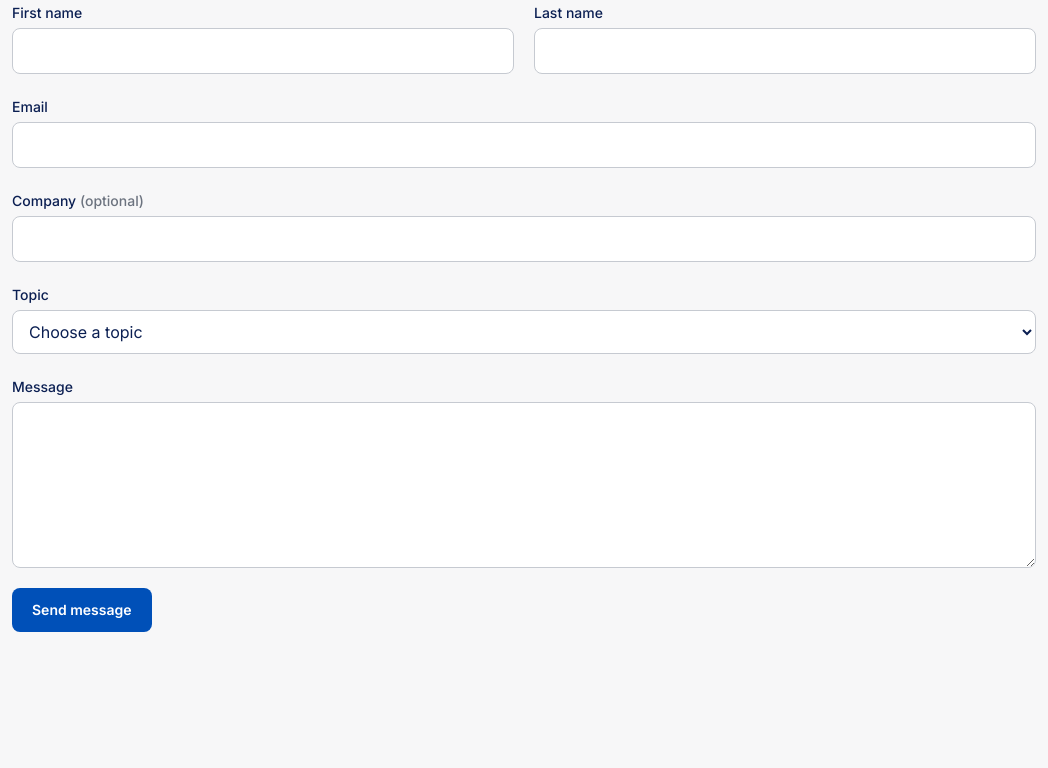
Test: ContactForm › shows the server's field error next to the field
Type "Ada" into the field labelled "First name".
click(263, 51); type("Ada")  # box [12,28,514,74]
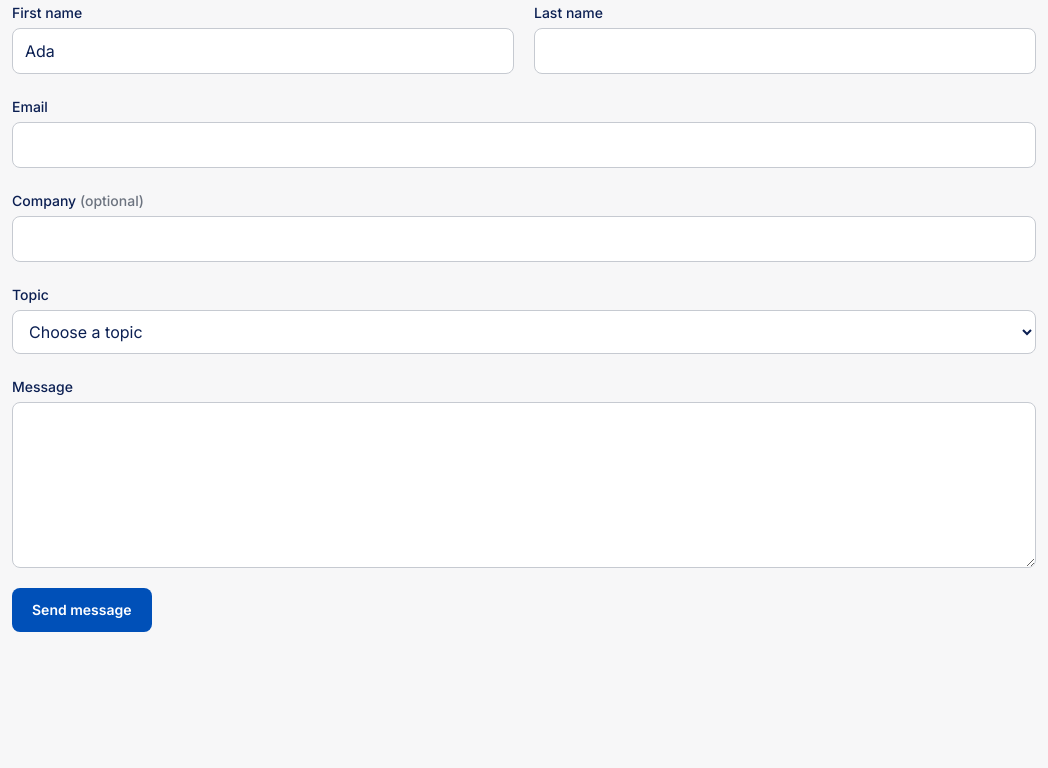
Type "Lovelace" into the field labelled "Last name".
click(785, 51); type("Lovelace")  # box [534,28,1036,74]
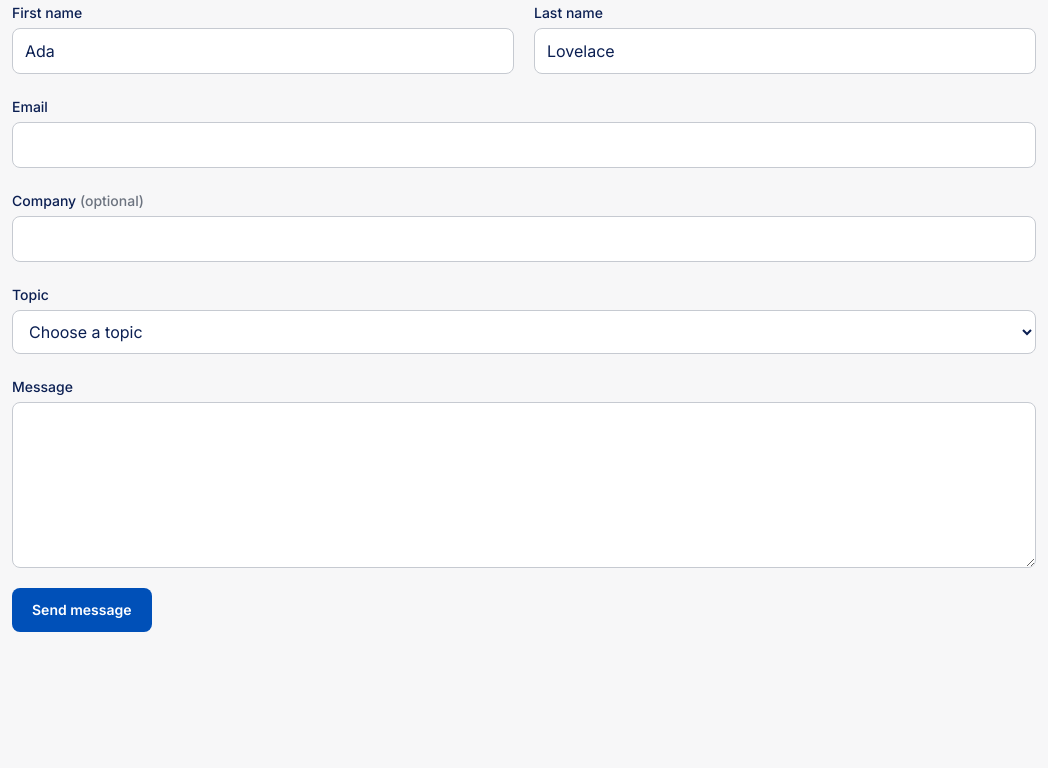
Type "ada@example.com" into the field labelled "Email".
click(524, 145); type("ada@example.com")  # box [12,122,1036,168]
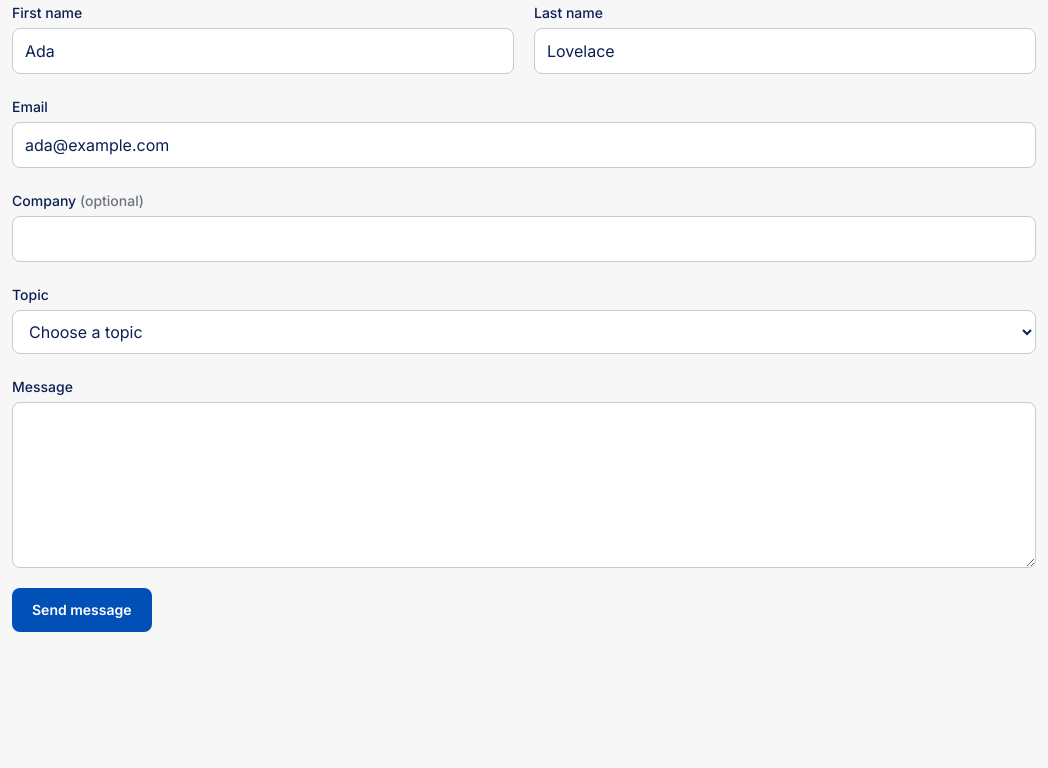
Select "Billing" in the dropdown labelled "Topic" at coordinates (524, 332), box [12,310,1036,354]
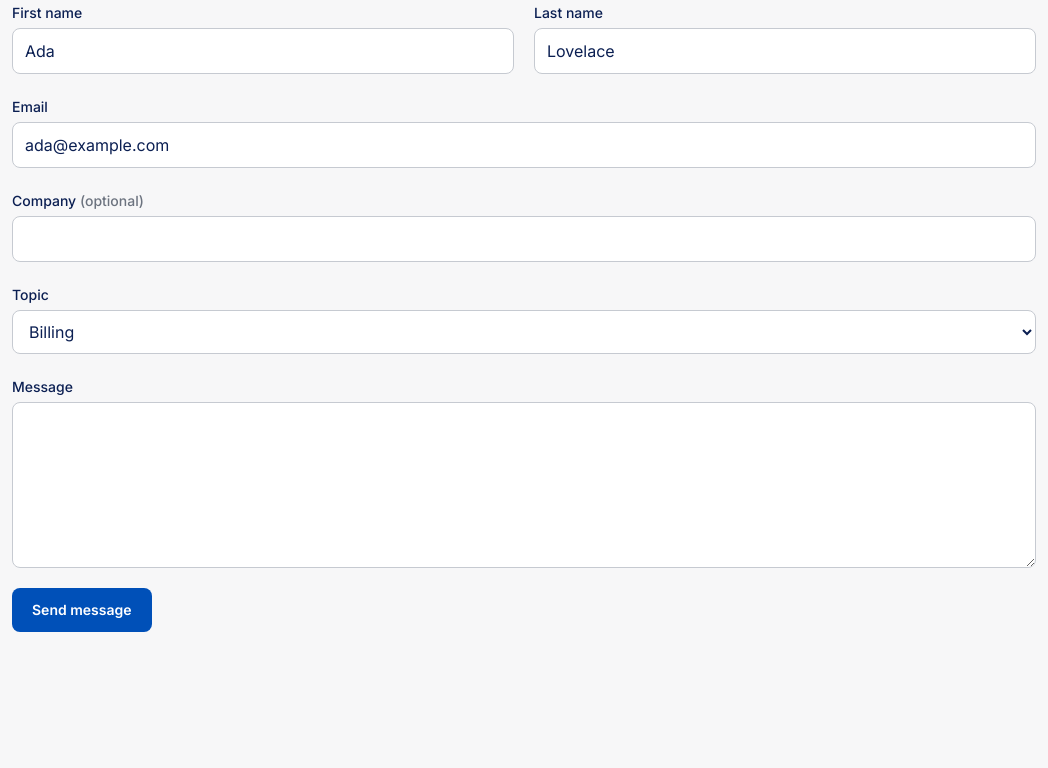
Type "Hello" into the text box labelled "Message".
click(524, 485); type("Hello")  # box [12,402,1036,568]
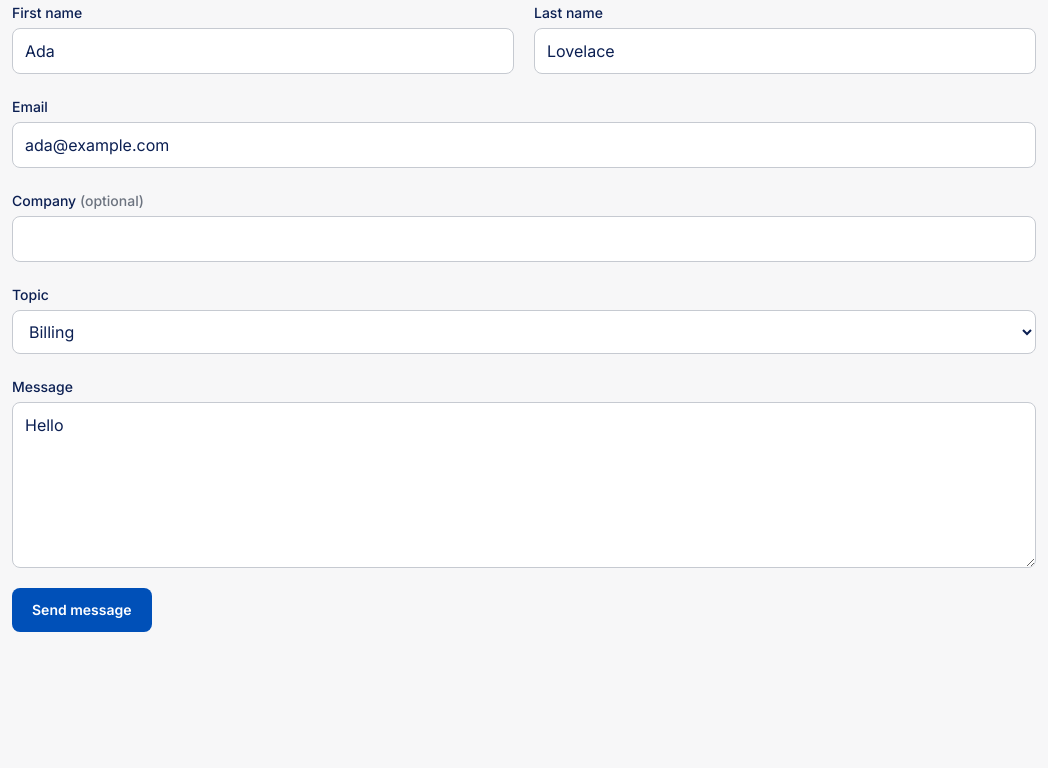
Click the button "Send message".
click(82, 610)  # box [12,588,152,632]
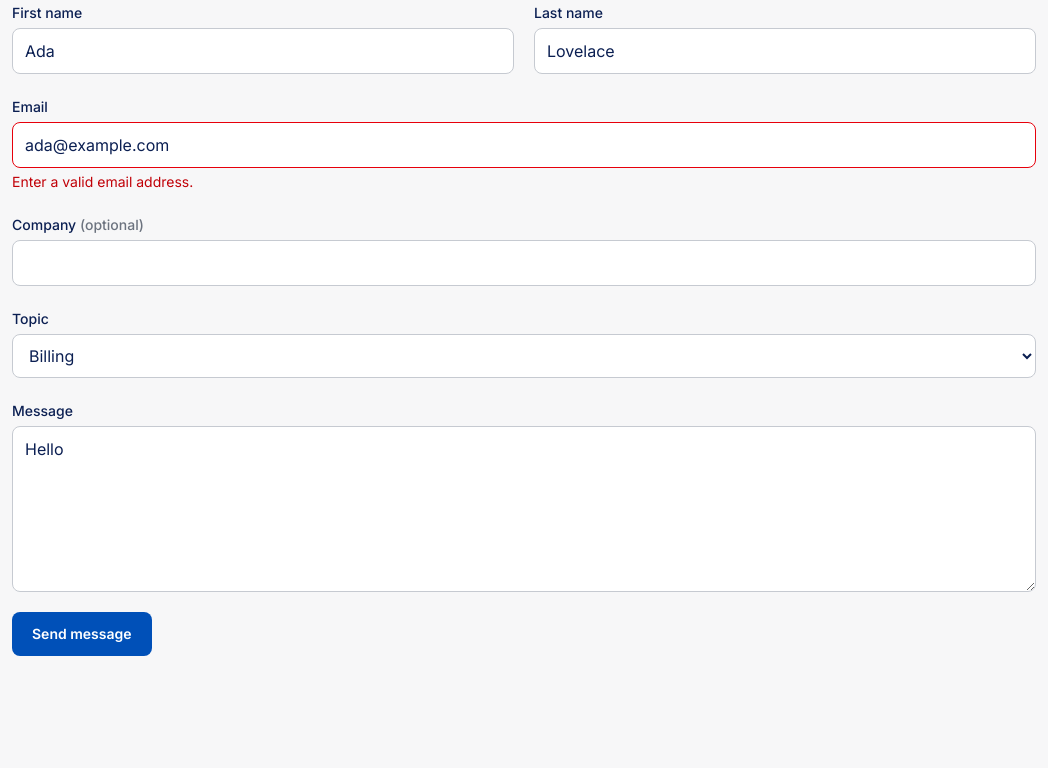
Expected: the text "Enter a valid email address." is shown, [12,173,193,190]
